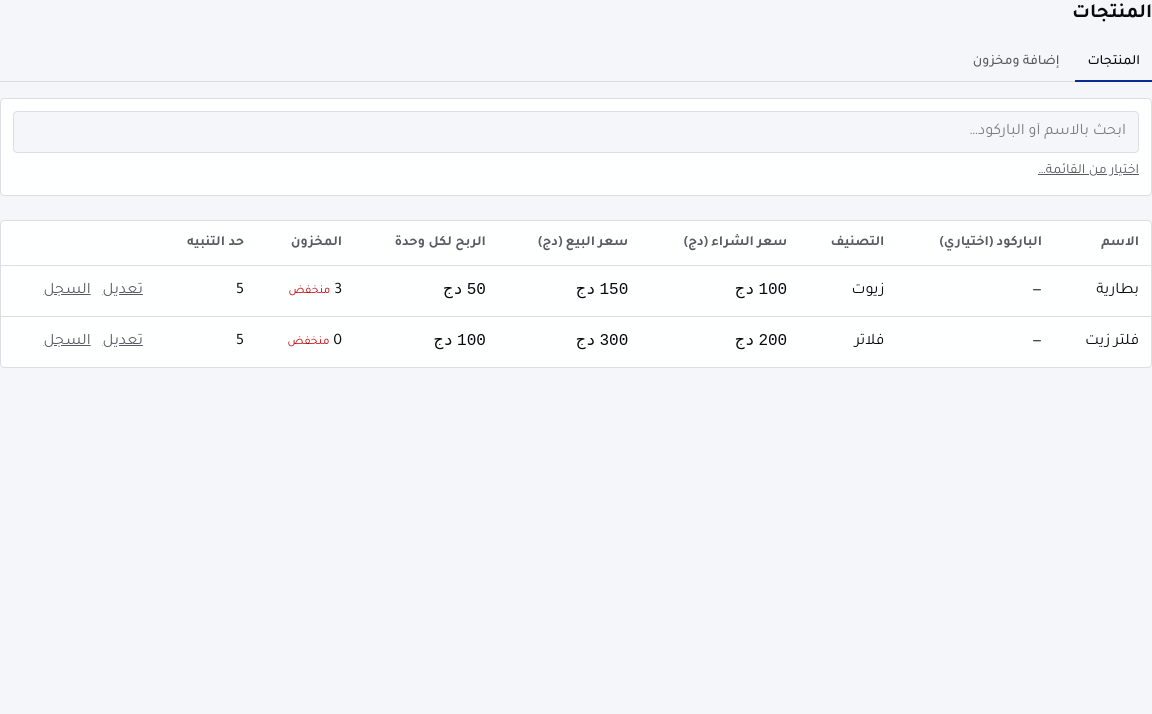
stock form prefill › shows the selling price and prefills the cost from the selected item
What coordinates should you click on to do the following:
click the tab "إضافة ومخزون"
I would click on:
 (1016, 63)
Its box is [961,44,1072,82].
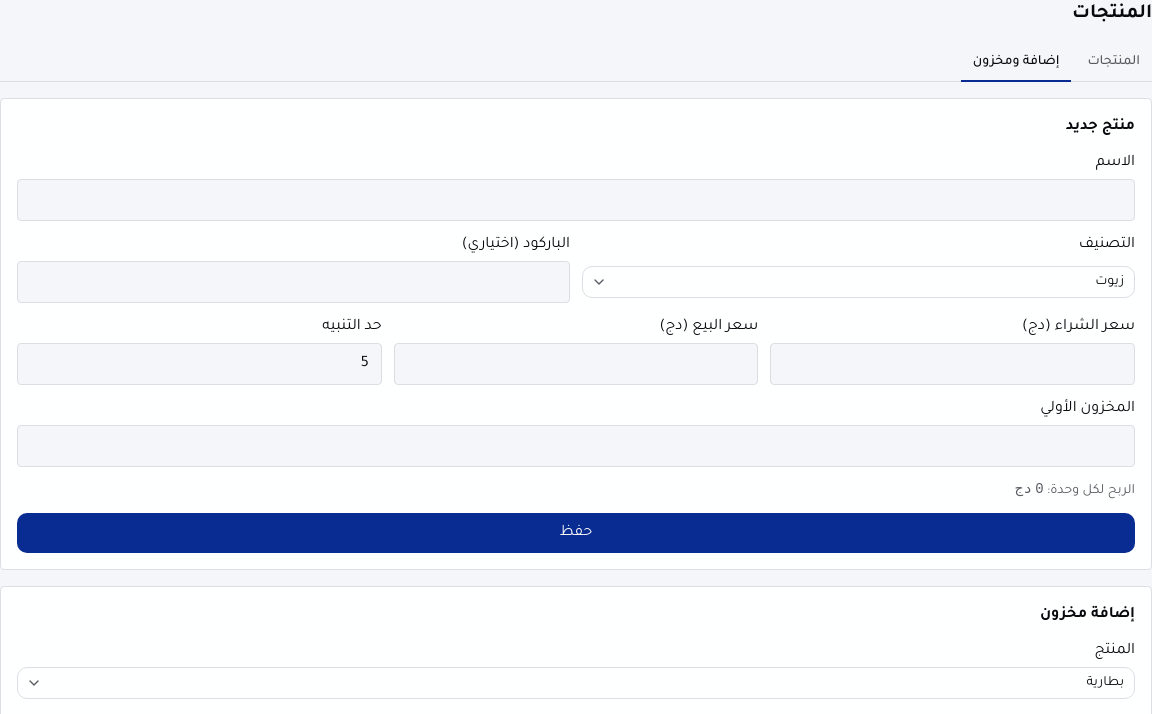
What coordinates should you click on to do the following:
click the dropdown with test id "stock-item"
I would click on:
 (1105, 683)
Its box is [17,667,1135,699].
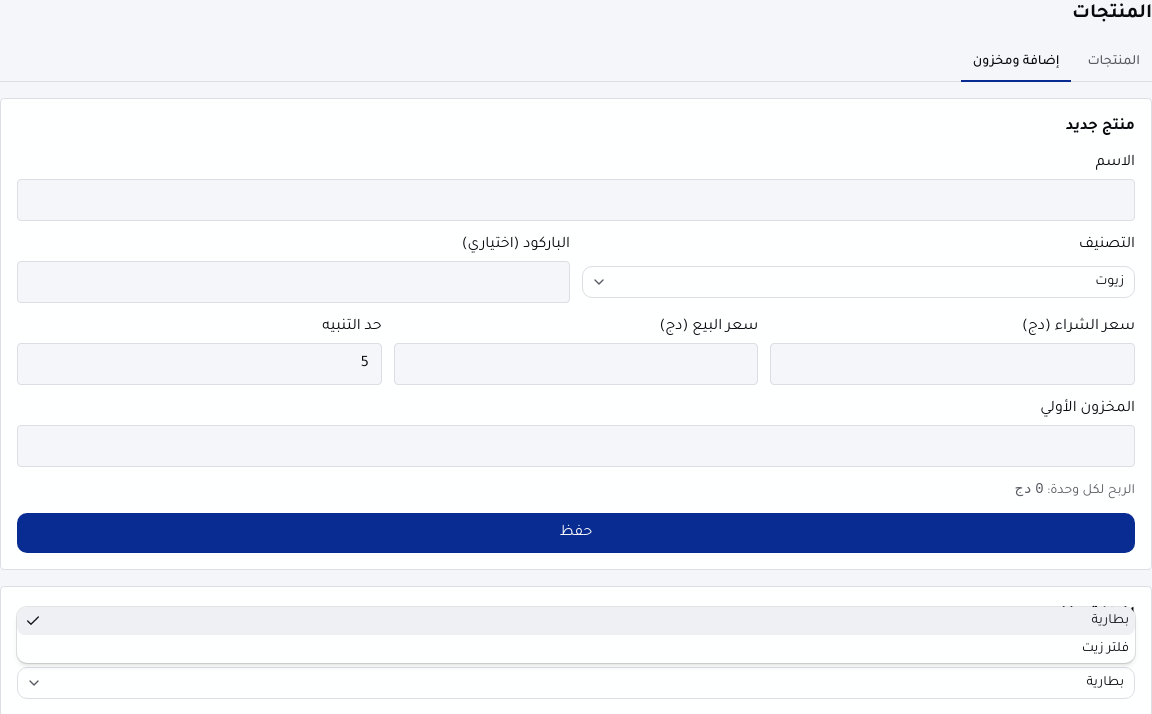
What coordinates should you click on to do the following:
click the option "فلتر زيت"
I would click on:
 (1105, 649)
Its box is [1082,642,1129,656].
(page scrolled)
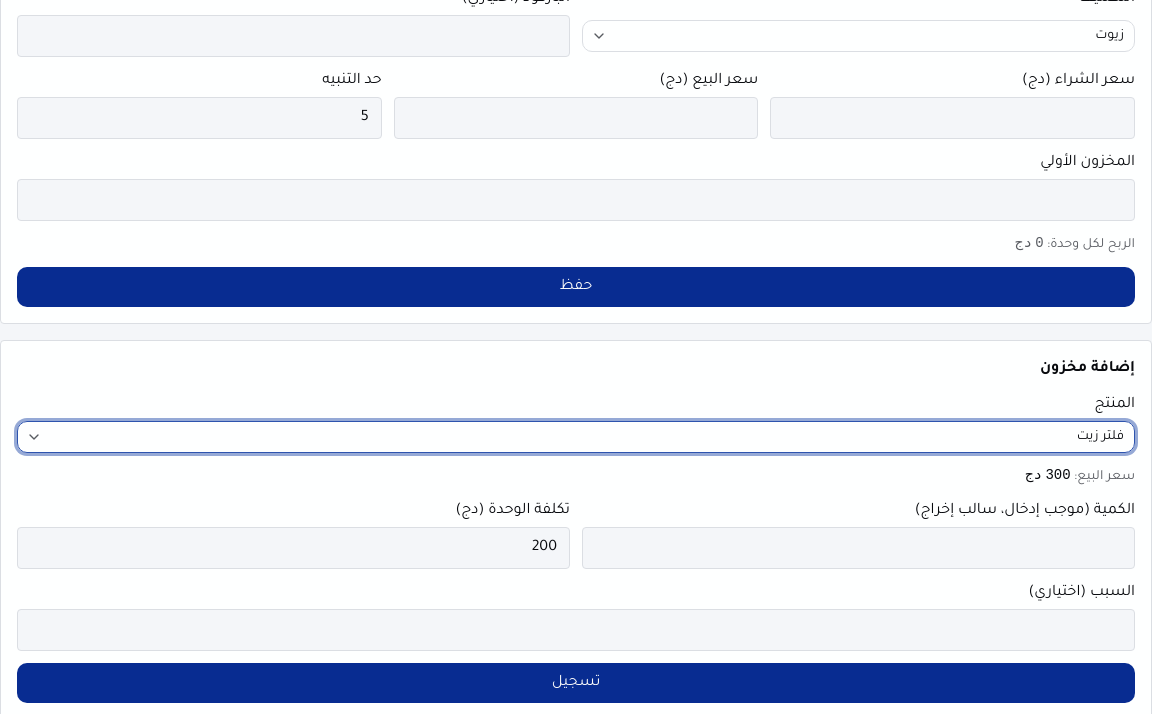
expect the element with test id "stock-selling-price" shows "300": met, box [1045,467,1071,483]
